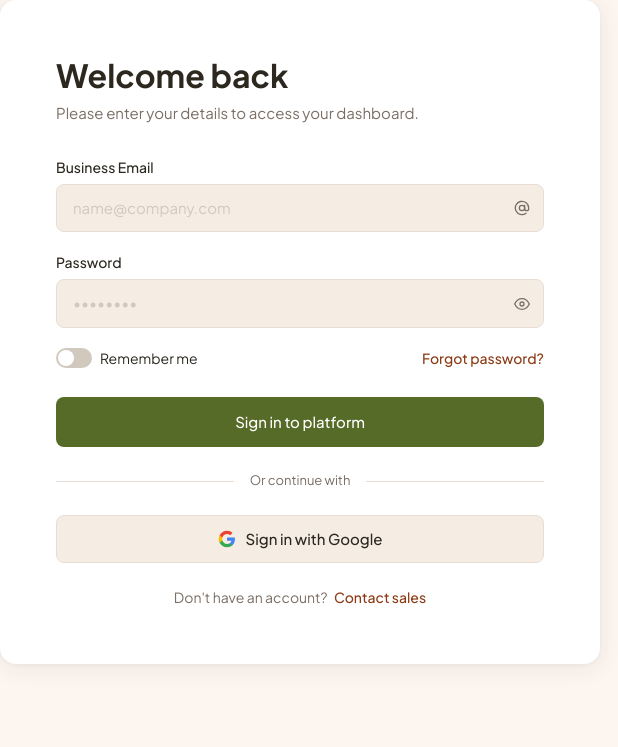
Test: LoginForm › should show error message on failed sign in
Type "test@company.com" into the field labelled "Business Email" at (300, 208), box [56,184,544,232]
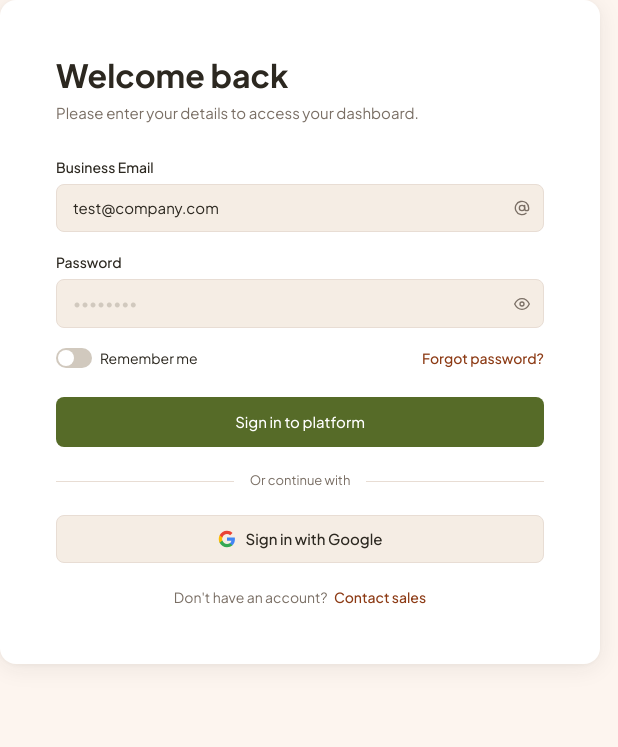
Type "wrong" into the password field labelled "Password" at (300, 304), box [56,279,544,328]
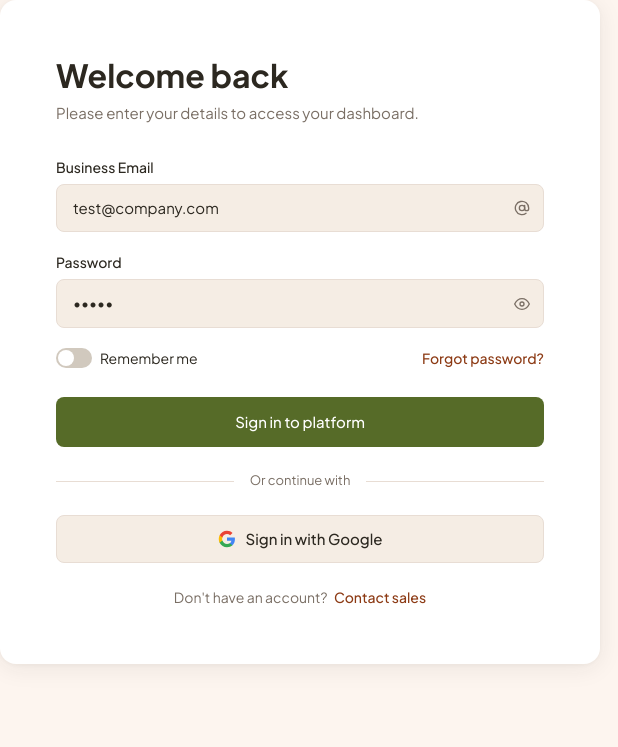
Click the button "Sign in to platform" at (300, 422), box [56,397,544,447]
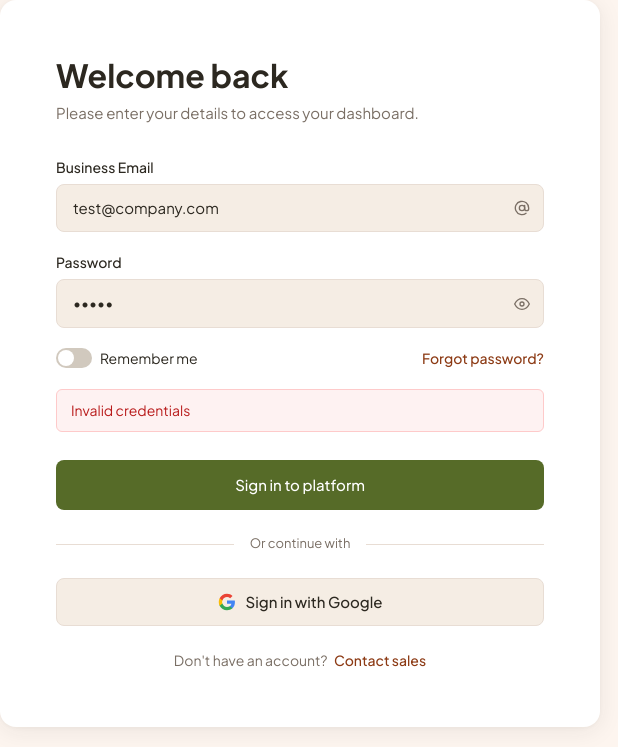
Check: the message reads "Invalid credentials", box [71,401,190,419]
